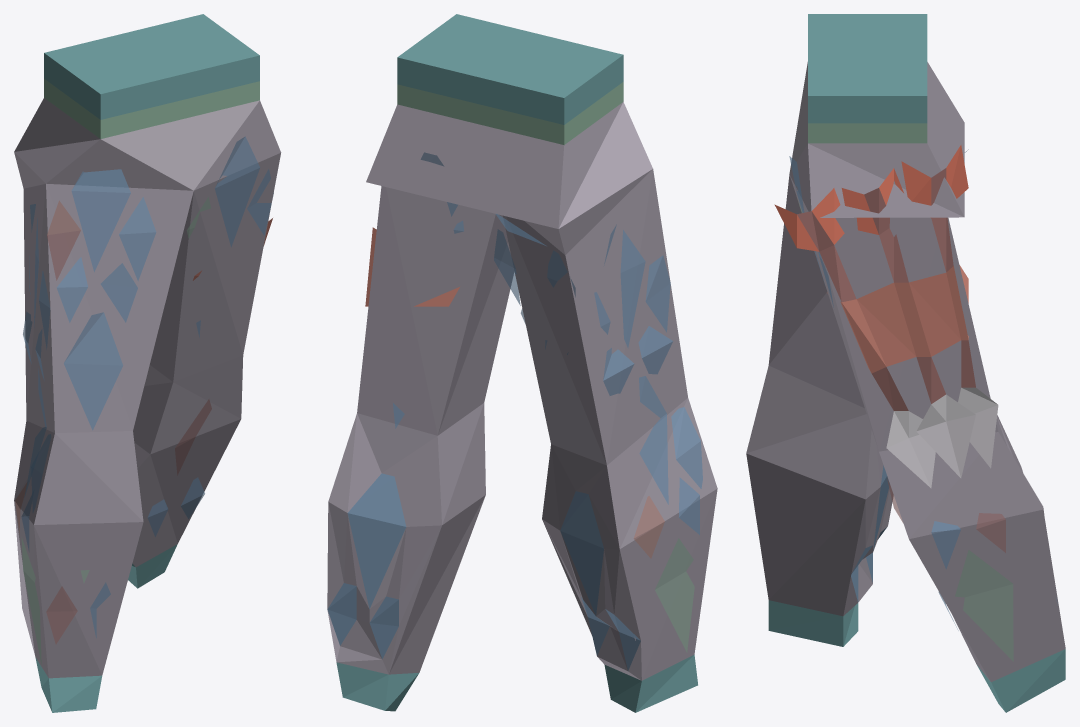
File: player_hueycoatl_hide_chaps.glb
3 renders of one model, left to right at view 1: azimuth 30°, elevation 25°; view 2: azimuth 150°, elevation 25°; view 3: azimuth 270°, elevation 25°, orthographic. The views are drawn at different scales.
Size of the model in its own units: 43.54 by 93.89 by 42.79.
Materials: 2 (2 with a texture image).
